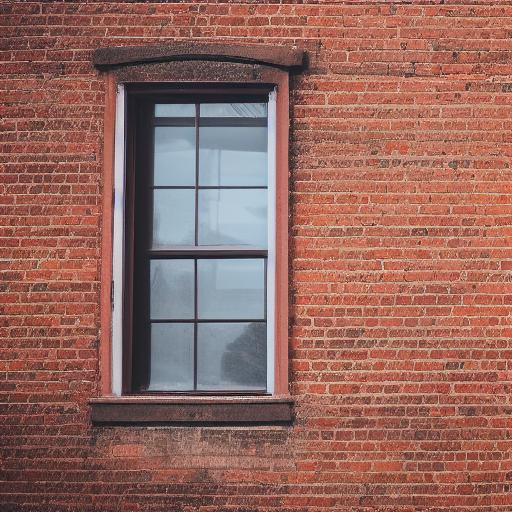Window: (90, 43, 309, 427)
